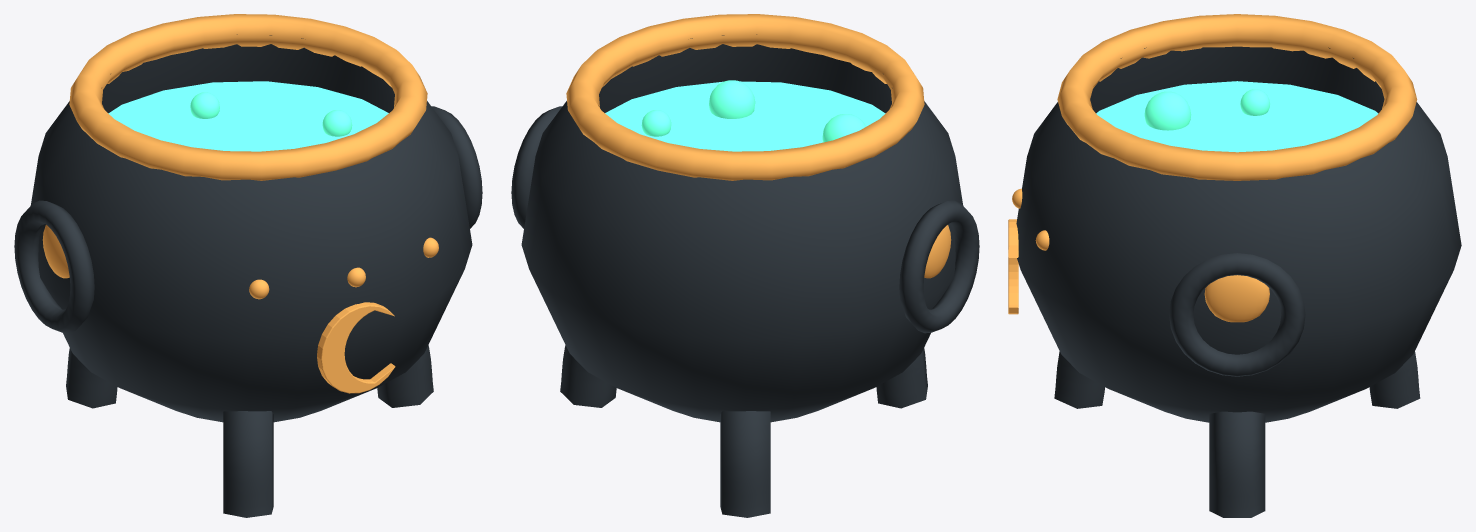
Rendered from hollowwick-halloween-moon-cauldron-e0f61d1e__21606.glb.
3 renders of one model, left to right at view 1: azimuth 30°, elevation 25°; view 2: azimuth 150°, elevation 25°; view 3: azimuth 270°, elevation 25°, orthographic.
Visible parts, largest first — view 1: moon-cauldron; view 2: moon-cauldron; view 3: moon-cauldron.
Part boxes in pixels (x1,y1,x2,y2): moon-cauldron: (14, 14, 482, 517); moon-cauldron: (511, 14, 979, 517); moon-cauldron: (1008, 14, 1461, 517).
Bounding box in the file's own units: 1.01 × 0.8291 × 0.97.
